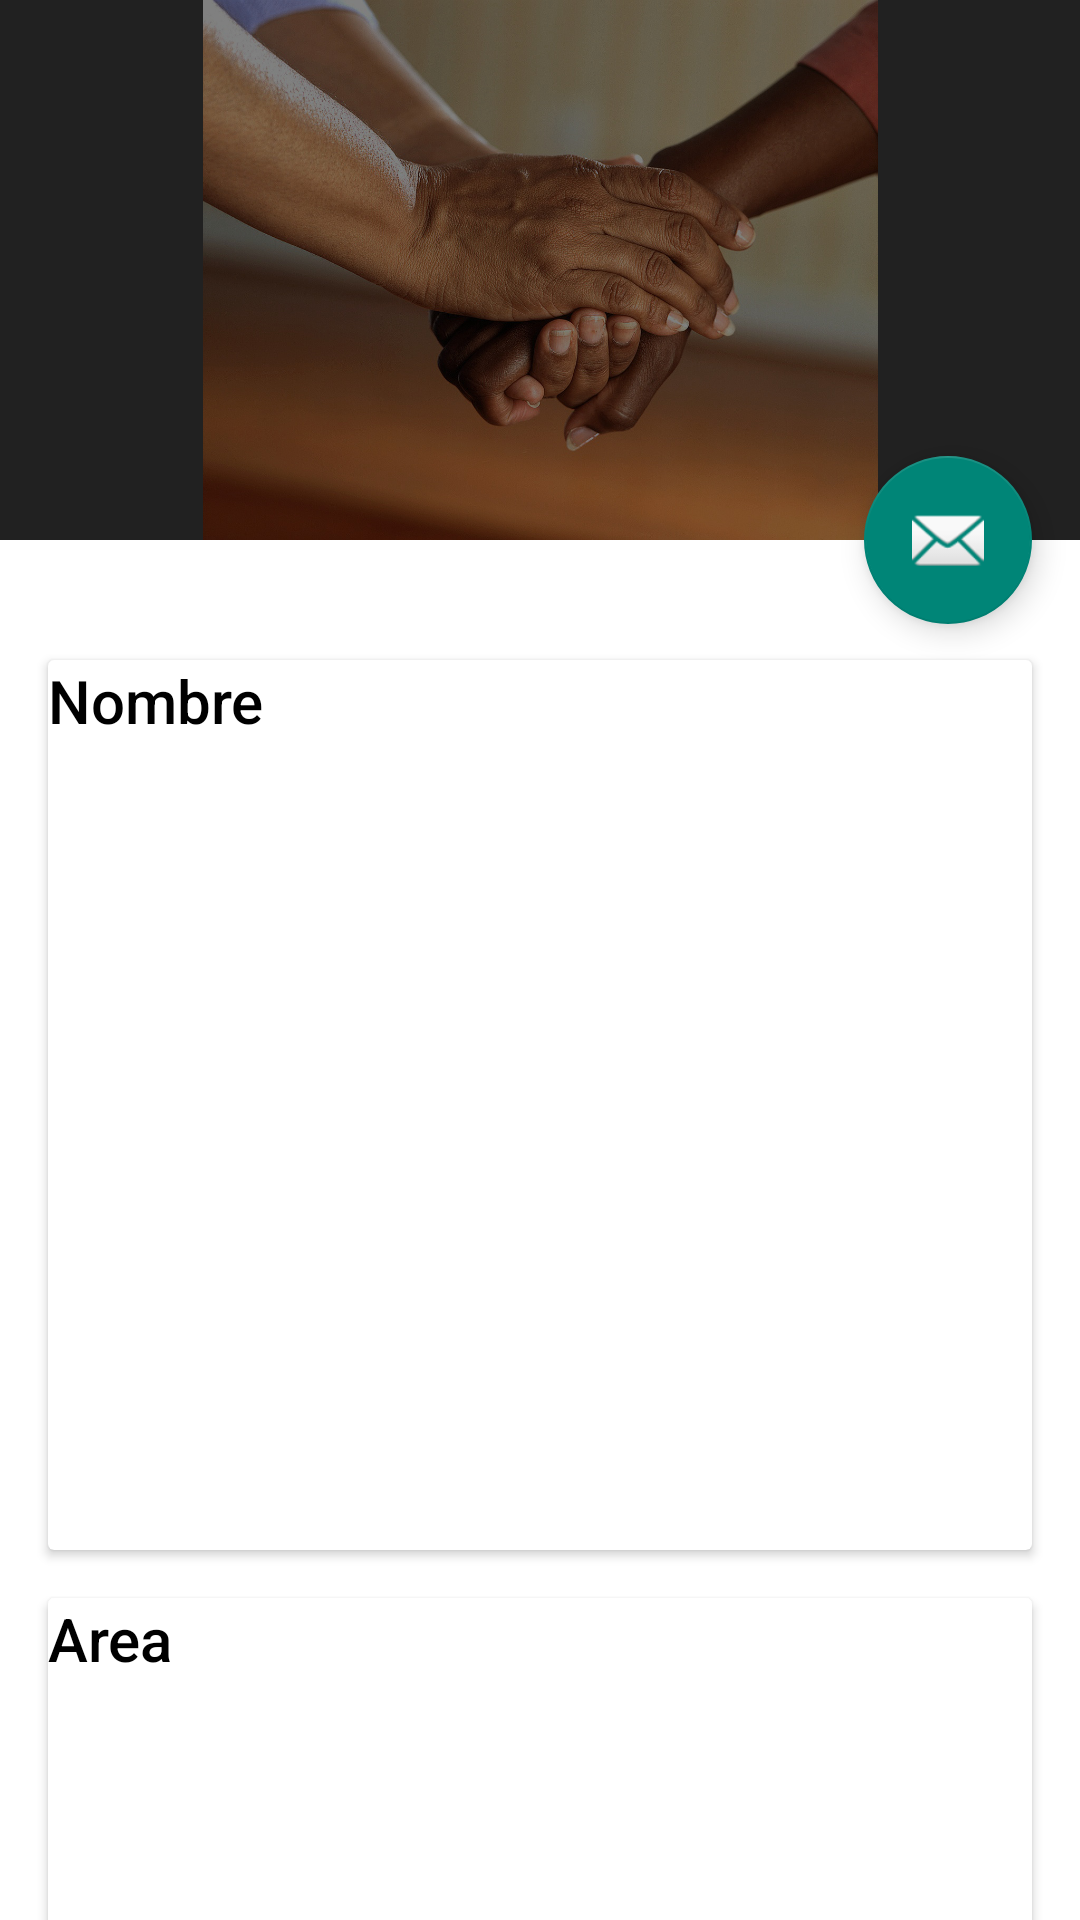

Icon click points for this 1080 x 1920 phone screenshot, format point (x, y):
email: point (948, 540)
